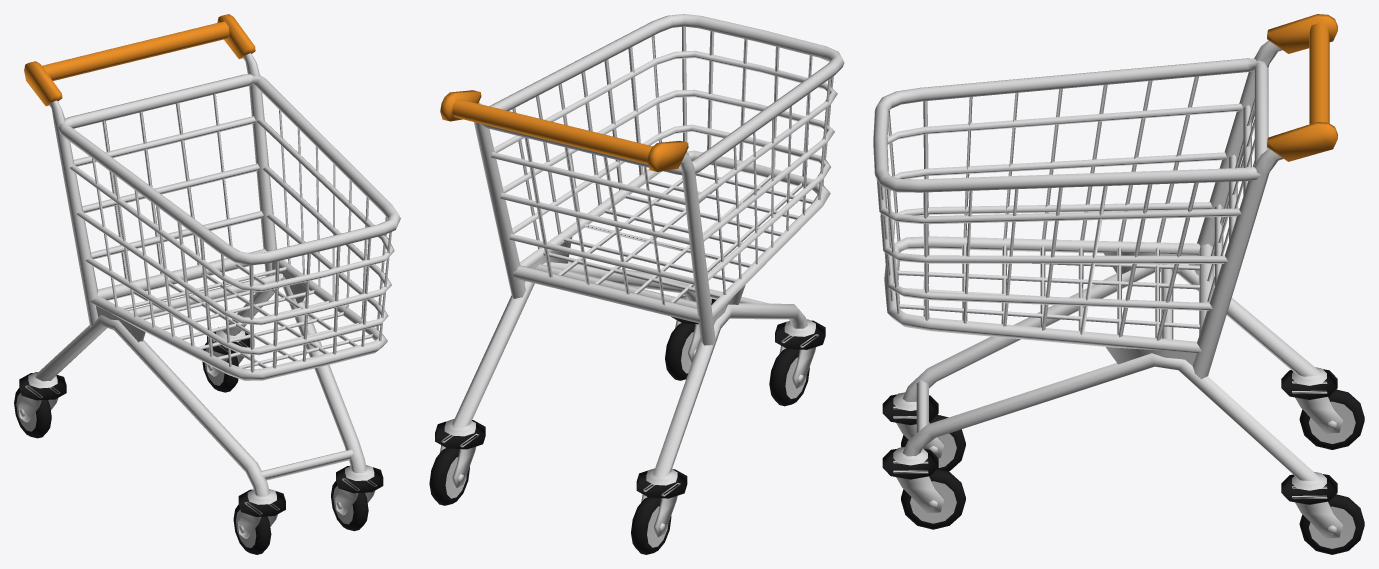
The model's file is OBJ-shopping_cart.glb.
3 views of the same model, side by side, from view 1: azimuth 30°, elevation 25°; view 2: azimuth 150°, elevation 25°; view 3: azimuth 270°, elevation 25° (orthographic). The views are drawn at different scales.
Visible parts, largest first — view 1: Einkaufswagen_0; view 2: Einkaufswagen_0; view 3: Einkaufswagen_0.
Part boxes in pixels (x1,y1,x2,y2): Einkaufswagen_0: [14, 14, 400, 554]; Einkaufswagen_0: [429, 14, 844, 554]; Einkaufswagen_0: [873, 14, 1364, 554].
Bounding box in the file's own units: 0.6186 × 0.9677 × 1.
